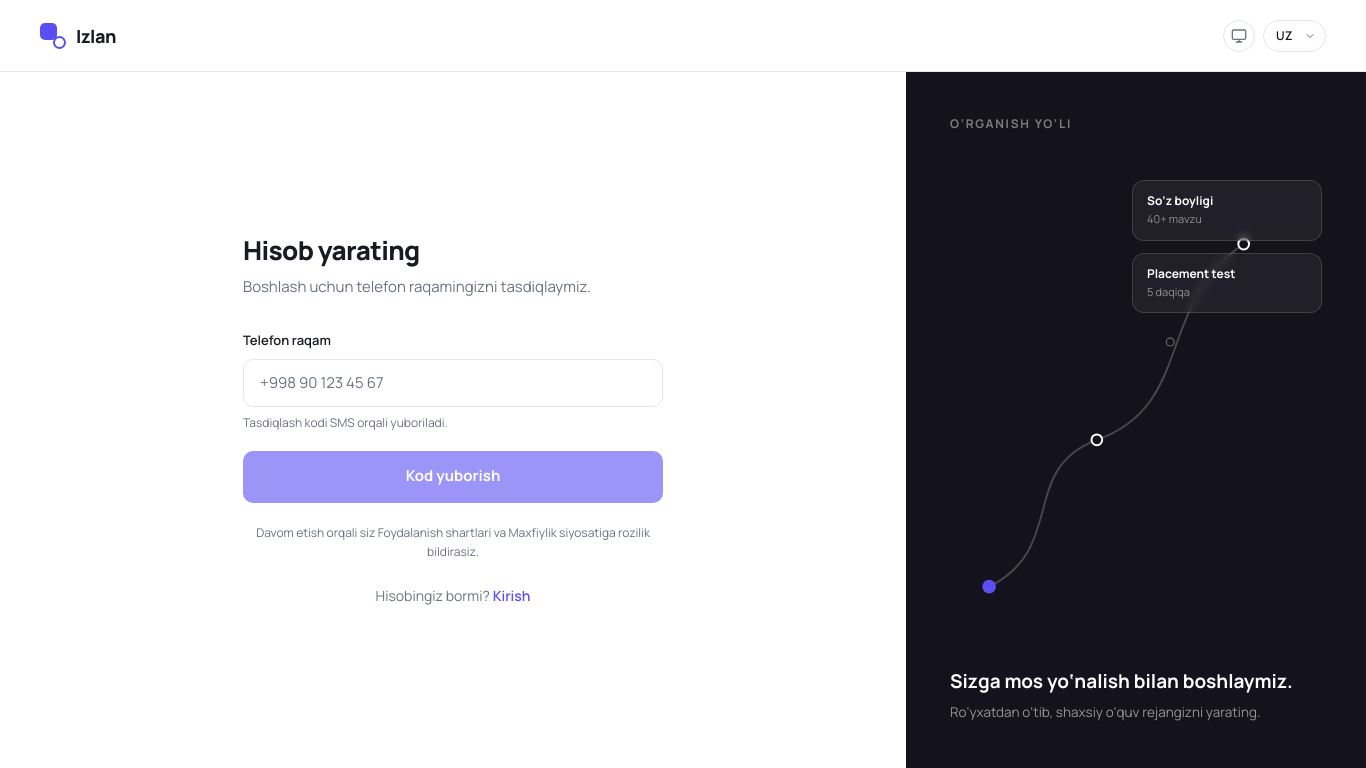
Test: Learner registration (WEB-REG) › WEB-REG-01 phone step requests a REGISTRATION OTP
In the field labelled "Telefon raqam": (453, 383) [243,359,663,407], type "+998900000003"
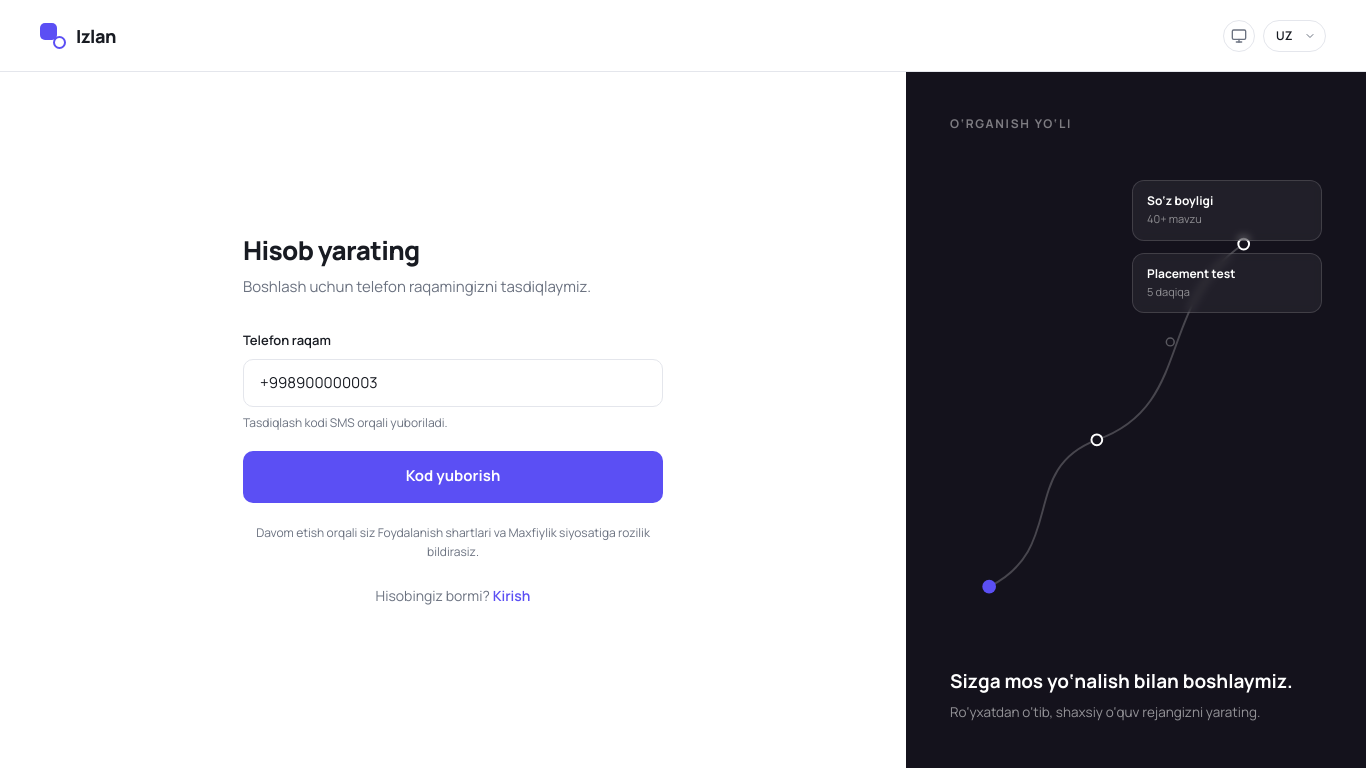
Click the button "Kod yuborish": (453, 477) [243,451,663,503]
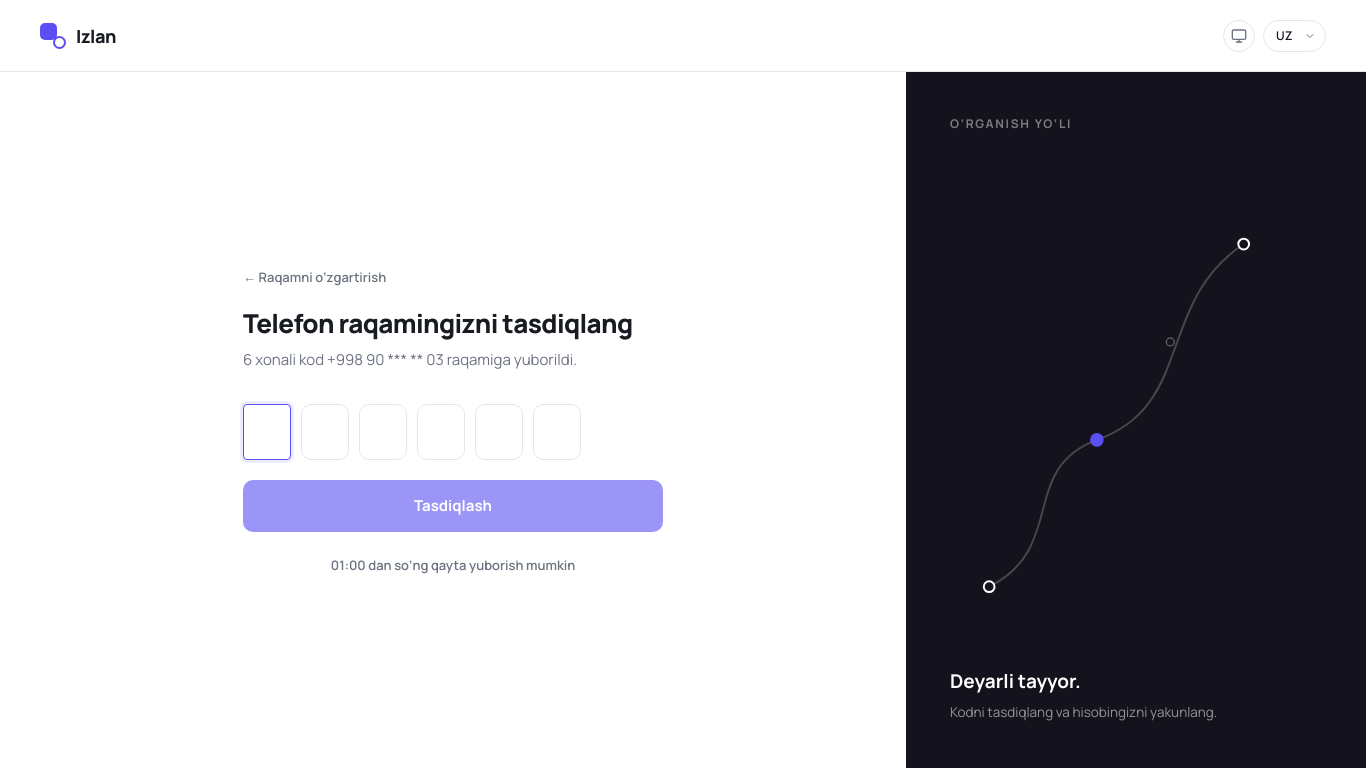
Now the element named "Tasdiqlash kodi" is shown, box [243,404,581,460]
